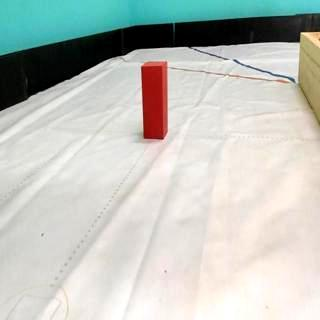redbox: (142, 61, 168, 140)
